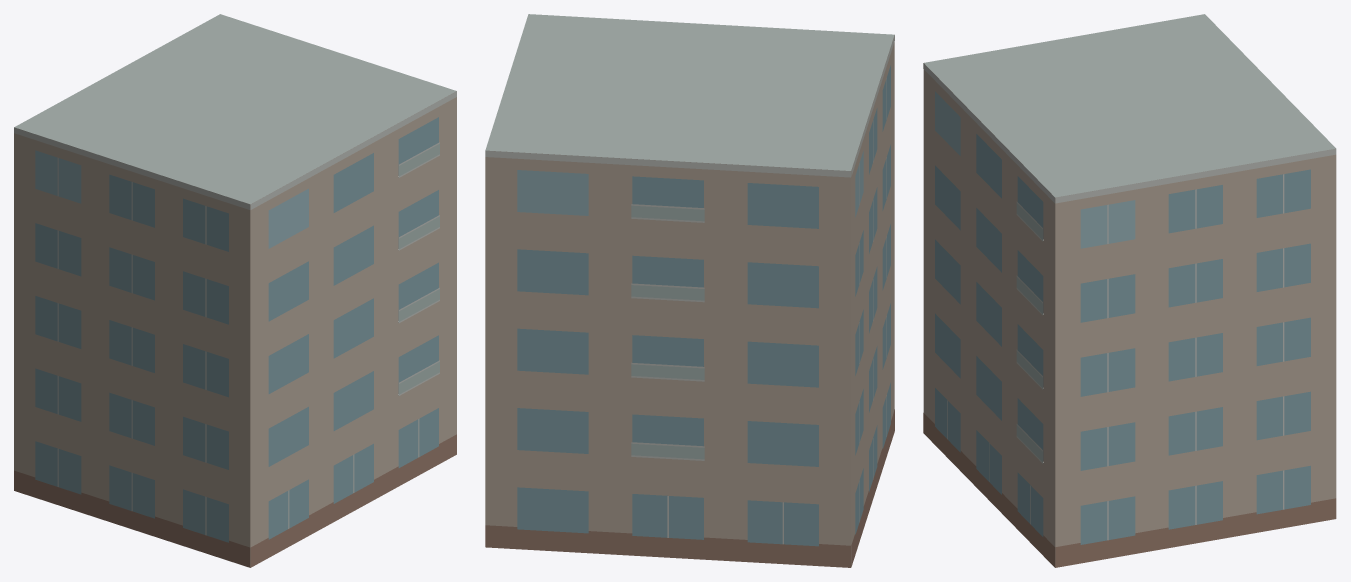
File: survey-upis-33005147.glb
The picture shows the model from 3 angles, left to right: view 1: azimuth 30°, elevation 25°; view 2: azimuth 150°, elevation 25°; view 3: azimuth 270°, elevation 25°; orthographic projection. The views are drawn at different scales.
Visible parts, largest first — view 1: survey-upis-33005147.tmp; view 2: survey-upis-33005147.tmp; view 3: survey-upis-33005147.tmp.
Boxes of the visible parts, x1=… form: survey-upis-33005147.tmp: x1=14, y1=14, x2=456, y2=567; survey-upis-33005147.tmp: x1=485, y1=14, x2=894, y2=567; survey-upis-33005147.tmp: x1=923, y1=14, x2=1336, y2=567.
Size of the model in its own units: 16.01 by 15.05 by 15.22.
